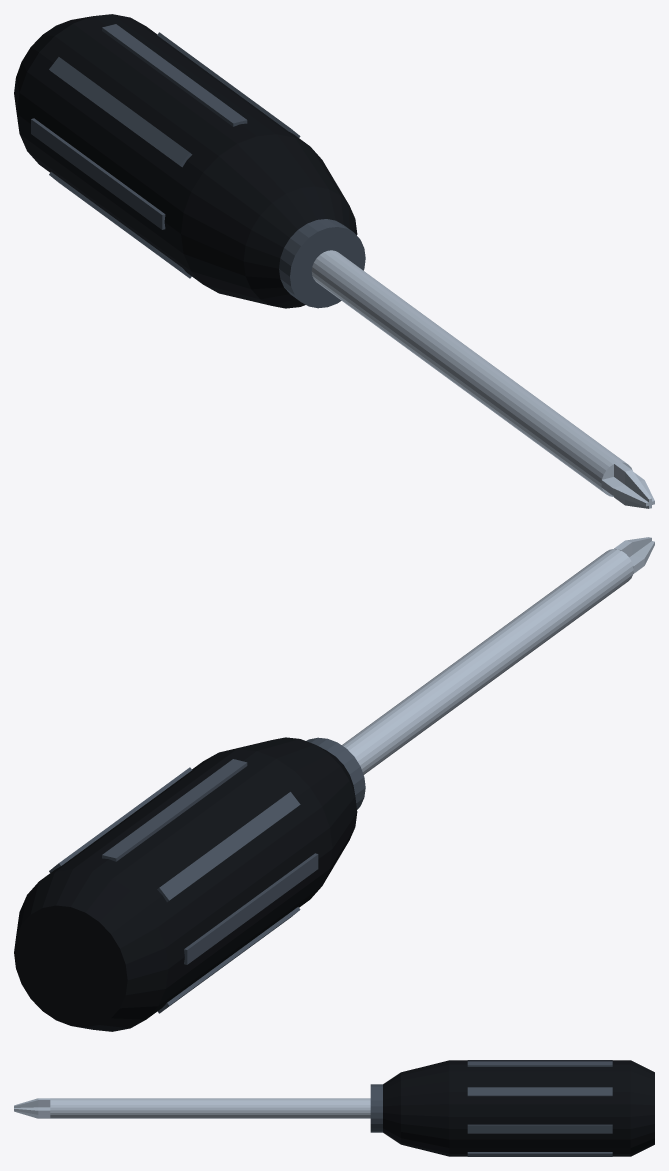
File: phillips_screwdriver.obj
The picture shows the model from 3 angles, top to bottom: view 1: azimuth 30°, elevation 25°; view 2: azimuth 150°, elevation 25°; view 3: azimuth 270°, elevation 25°; orthographic projection. The views are drawn at different scales.
Parts seen in each view (by area): view 1: phillips_screwdriver; view 2: phillips_screwdriver; view 3: phillips_screwdriver.
Part boxes in pixels (left/top/right/bottom): phillips_screwdriver: left=14, top=14, right=654, bottom=508; phillips_screwdriver: left=14, top=537, right=654, bottom=1031; phillips_screwdriver: left=14, top=1060, right=654, bottom=1156.
Size of the model in its own units: 0.3113 by 0.3113 by 2.
